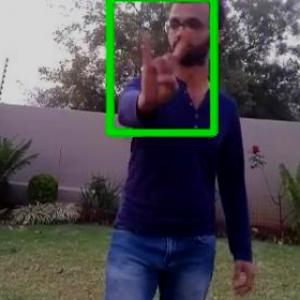takeoff-hand: (135, 24, 195, 115)
